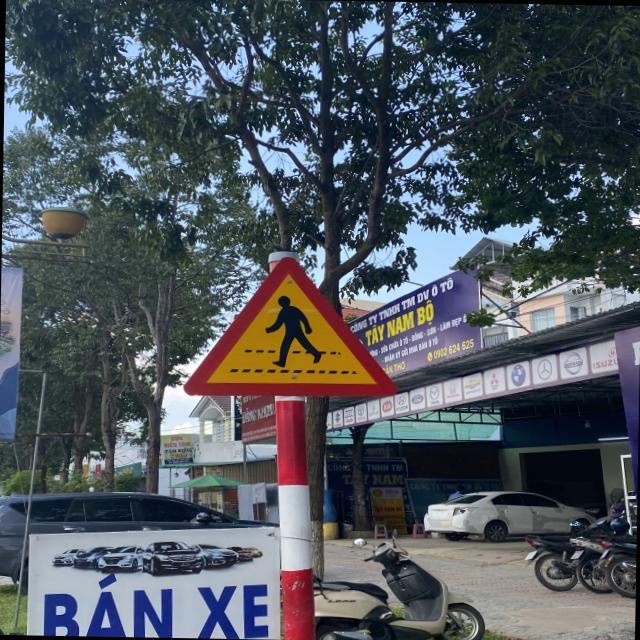Duong_Nguoi_Di_Bo_Sang_Ngang: (180, 255, 390, 396)
